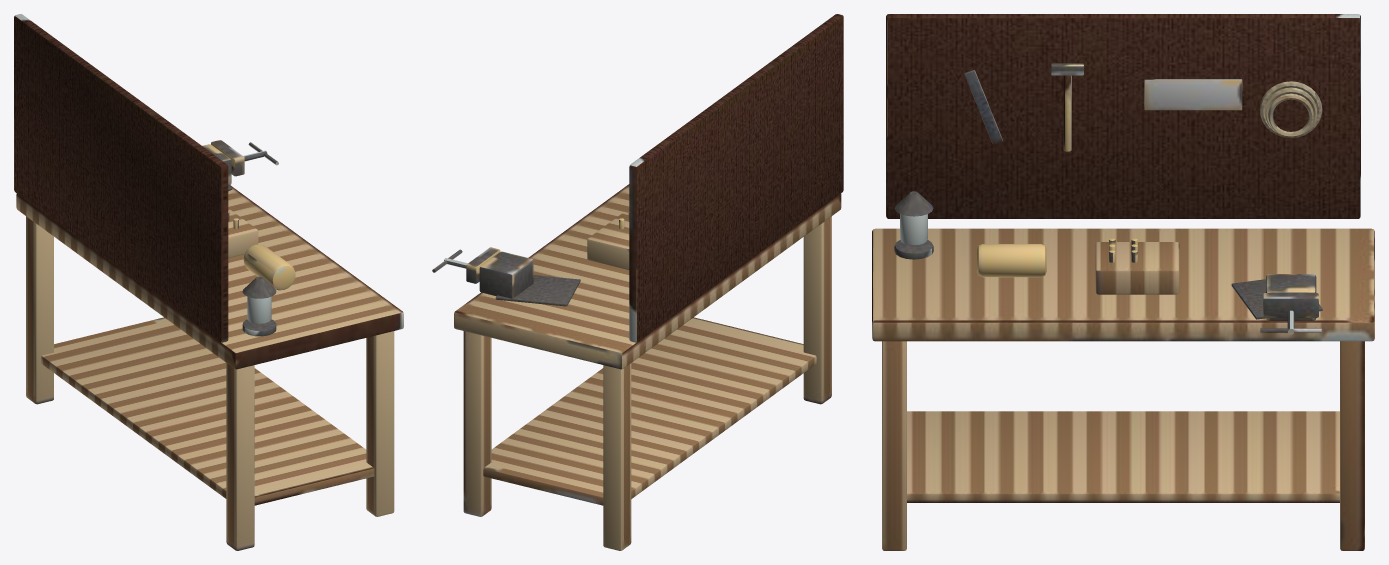
The model's file is workbench.glb.
3 views of the same model, side by side, from view 1: azimuth 30°, elevation 25°; view 2: azimuth 150°, elevation 25°; view 3: azimuth 270°, elevation 25° (orthographic). The views are drawn at different scales.
Visible parts, largest first — view 1: board, shelf, top, leg-0.33-0.82, leg0.33-0.82, leg-0.330.82, bulb, parts_box, lamp_glass, vice_jaw, lamp_cap; view 2: board, shelf, top, leg-0.330.82, leg0.330.82, leg-0.33-0.82, vice_body, parts_box, plate, vice_jaw; view 3: board, top, shelf, leg0.33-0.82, leg0.330.82, parts_box, saw, bulb, vice_jaw, vice_body, spanner, coil0 (+5 smaller).
Boxes of the visible parts, x1,y1,x2,y2 form: board: [14, 14, 228, 342]; shelf: [41, 317, 374, 505]; top: [16, 185, 403, 369]; leg-0.33-0.82: [226, 363, 254, 550]; leg0.33-0.82: [366, 331, 394, 516]; leg-0.330.82: [26, 216, 53, 404]; bulb: [243, 244, 295, 290]; parts_box: [228, 208, 258, 258]; lamp_glass: [247, 296, 271, 323]; vice_jaw: [211, 140, 244, 176]; lamp_cap: [242, 276, 276, 298]; board: [629, 14, 843, 342]; shelf: [483, 317, 816, 505]; top: [454, 184, 841, 369]; leg-0.330.82: [603, 363, 631, 550]; leg0.330.82: [463, 331, 491, 516]; leg-0.33-0.82: [803, 216, 831, 404]; vice_body: [479, 251, 533, 298]; parts_box: [587, 213, 629, 269]; plate: [495, 275, 580, 306]; vice_jaw: [466, 247, 500, 283]; board: [886, 14, 1360, 218]; top: [872, 228, 1374, 341]; shelf: [907, 411, 1339, 502]; leg0.33-0.82: [882, 341, 906, 550]; leg0.330.82: [1340, 341, 1364, 550]; parts_box: [1095, 242, 1179, 294]; saw: [1144, 79, 1242, 110]; bulb: [977, 244, 1046, 277]; vice_jaw: [1263, 293, 1318, 317]; vice_body: [1266, 274, 1316, 320]; spanner: [964, 70, 1002, 144]; coil0: [1259, 81, 1322, 138].
Bounding box in the file's own units: 1.05 × 1.75 × 1.8.
1 material, 1 textured.
